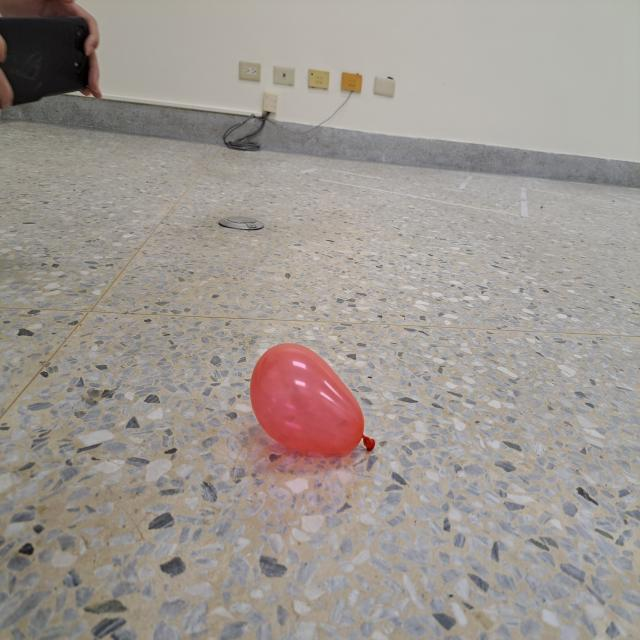red: (250, 342, 376, 455)
